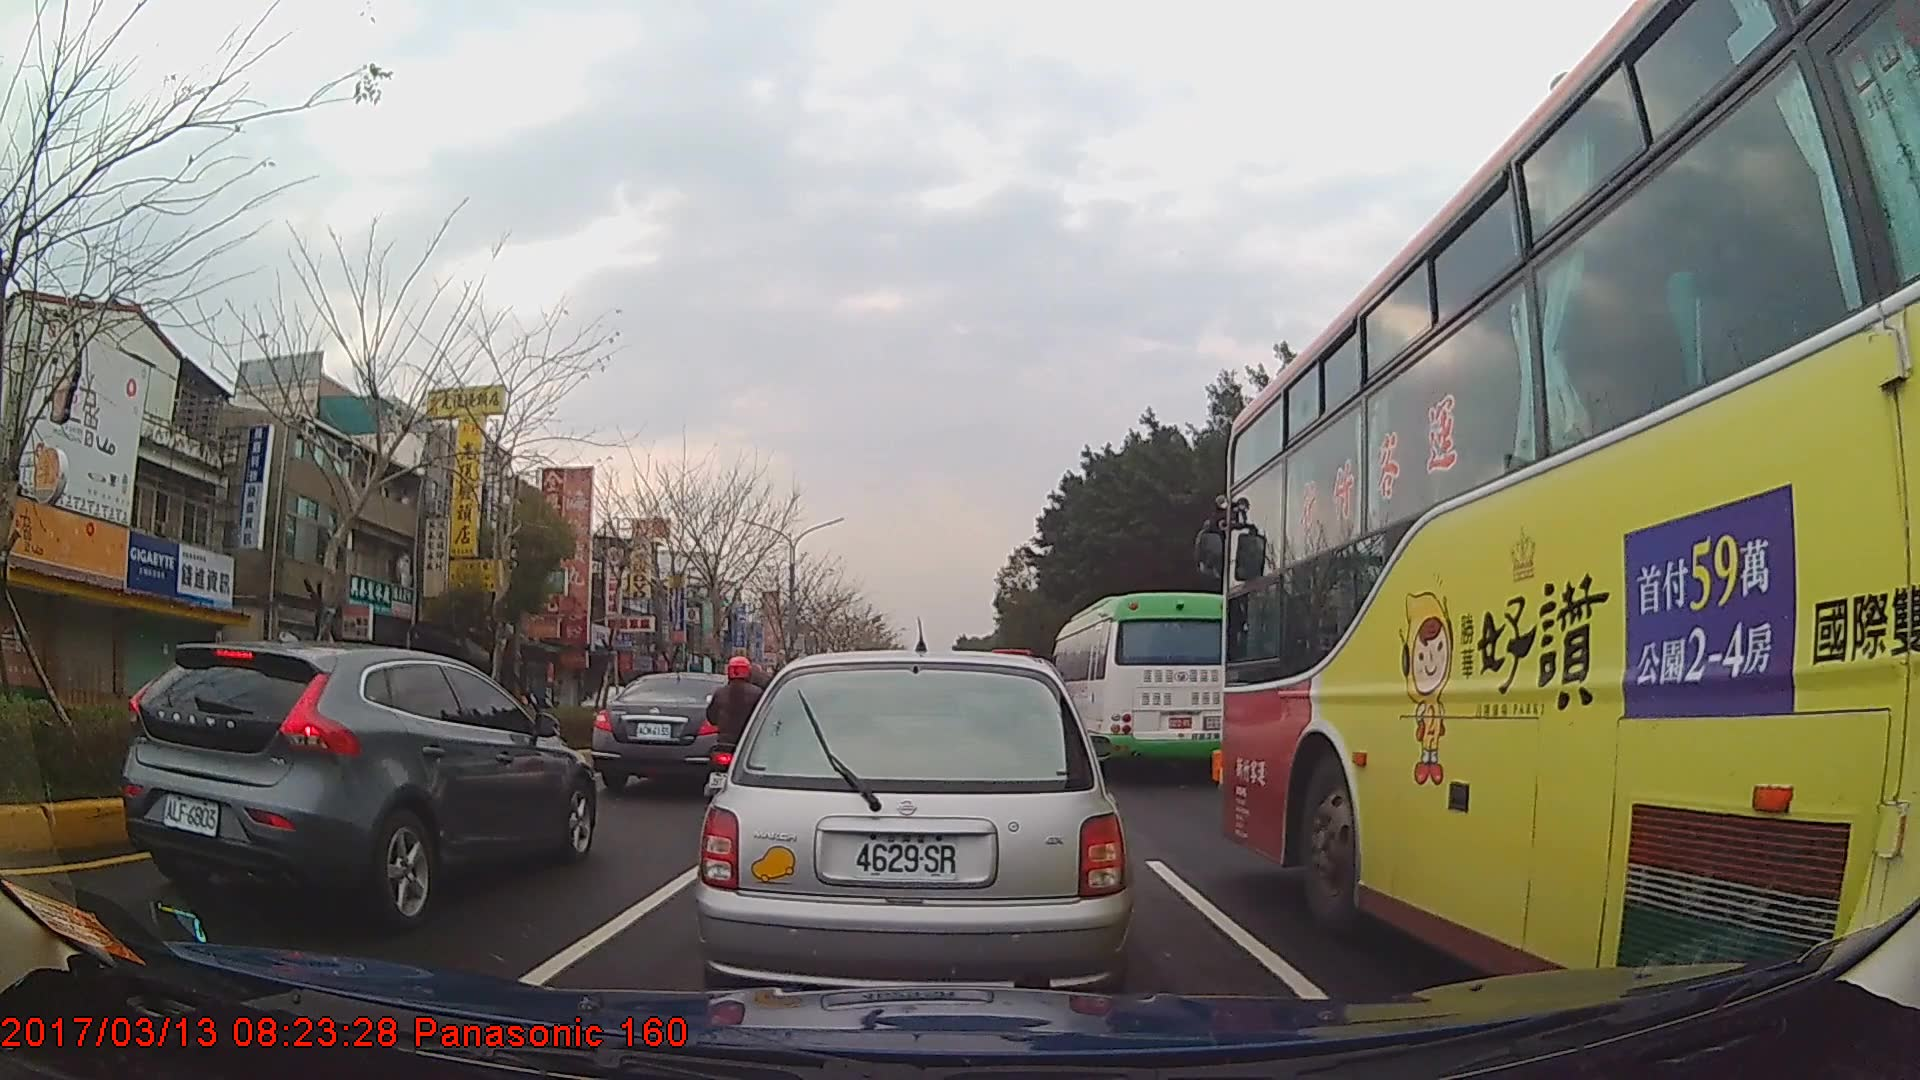rider: (705, 654, 779, 821)
vehicle: (1220, 0, 1920, 1009), (694, 646, 1131, 1004), (116, 639, 596, 930), (1048, 590, 1234, 781), (594, 670, 763, 794)
